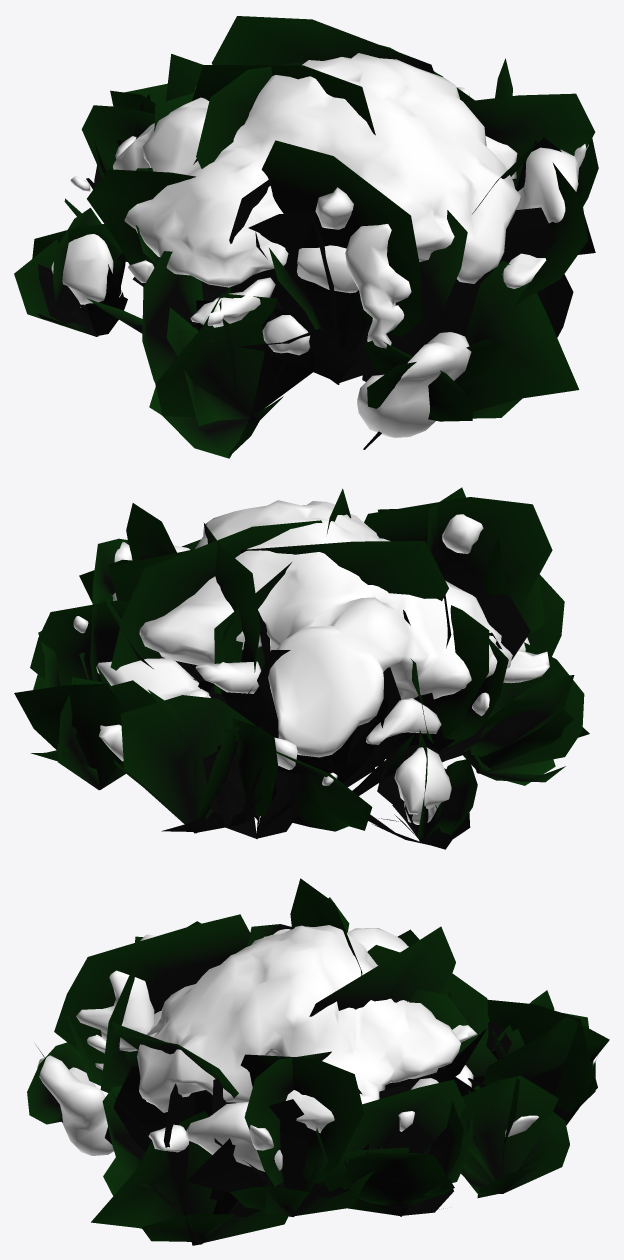
The model's file is SnowBushClumpBRHE_LOD0.fbx.
3 views of the same model, one above another, from view 1: azimuth 30°, elevation 25°; view 2: azimuth 150°, elevation 25°; view 3: azimuth 270°, elevation 25° (orthographic). The views are drawn at different scales.
Parts seen in each view (by area): view 1: SnowBushClumpBRHE_LOD0; view 2: SnowBushClumpBRHE_LOD0; view 3: SnowBushClumpBRHE_LOD0.
Part boxes in pixels (box(x1,y1,x2,y2)): SnowBushClumpBRHE_LOD0: box(14, 16, 598, 458); SnowBushClumpBRHE_LOD0: box(14, 487, 589, 849); SnowBushClumpBRHE_LOD0: box(27, 878, 609, 1245).
Size of the model in its own units: 4.4 by 2.71 by 5.
